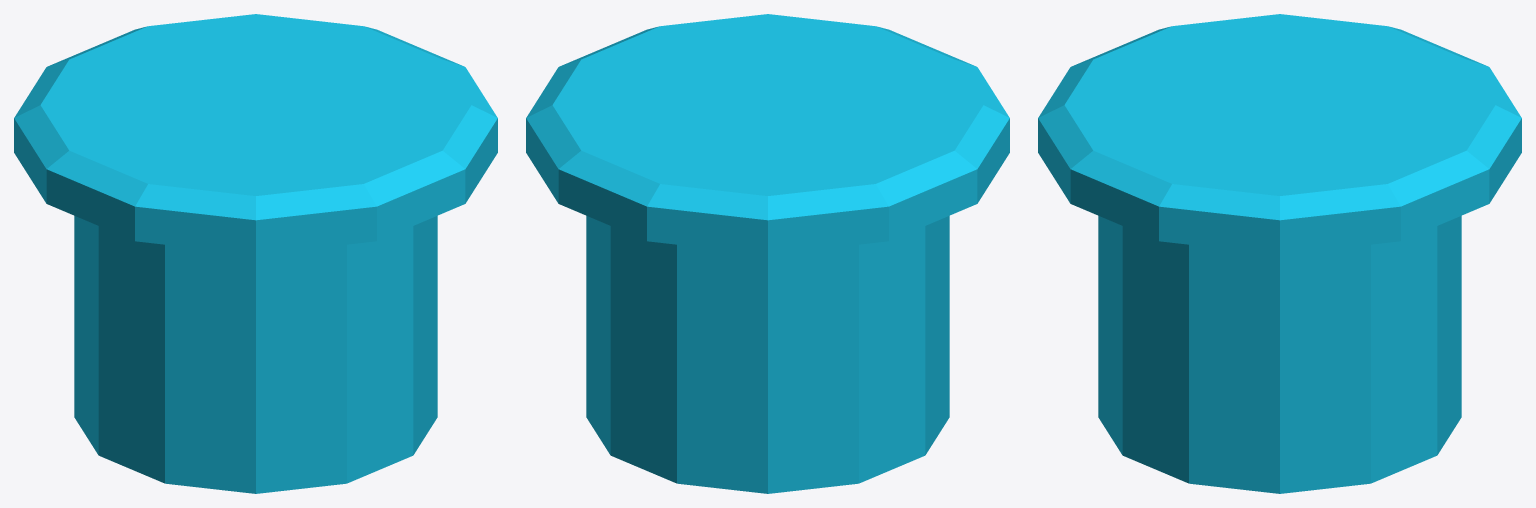
The model's file is button_cap2.fbx.
3 views of the same model, side by side, from view 1: azimuth 30°, elevation 25°; view 2: azimuth 150°, elevation 25°; view 3: azimuth 270°, elevation 25° (orthographic).
Visible parts, largest first — view 1: mesh1421311954; view 2: mesh1421311954; view 3: mesh1421311954.
Boxes of the visible parts, bbox=[...] form: mesh1421311954: bbox=[14, 14, 497, 493]; mesh1421311954: bbox=[526, 14, 1009, 493]; mesh1421311954: bbox=[1038, 14, 1521, 493].
Bounding box in the file's own units: 5 × 3.56 × 5.
